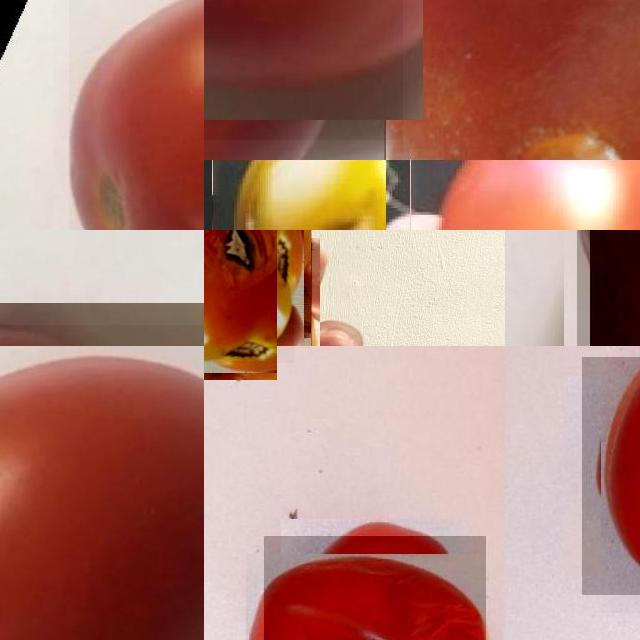0: (577, 230, 640, 346)
1: (263, 536, 486, 640), (582, 357, 640, 594), (204, 230, 294, 363)
Fresh Tomato: (0, 325, 204, 640), (69, 0, 204, 230), (204, 0, 403, 140)
Rotten Tomato: (386, 0, 640, 160), (212, 160, 386, 230)
